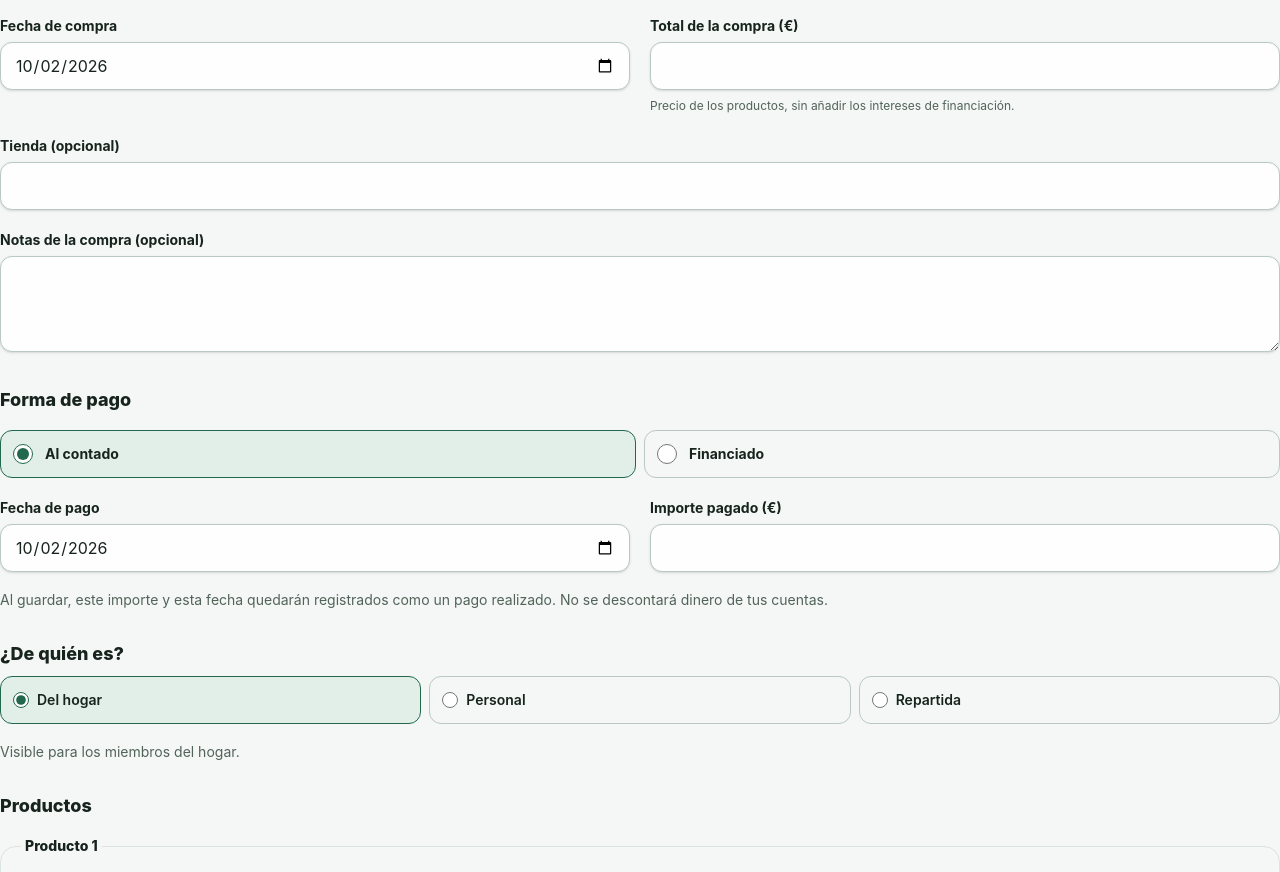
purchase payment fields › explains cent adjustment in the last installment
Type "100" into the field labelled "Total de la compra (€)". click: {"x": 965, "y": 66}
box: x1=650 y1=42 x2=1279 y2=90
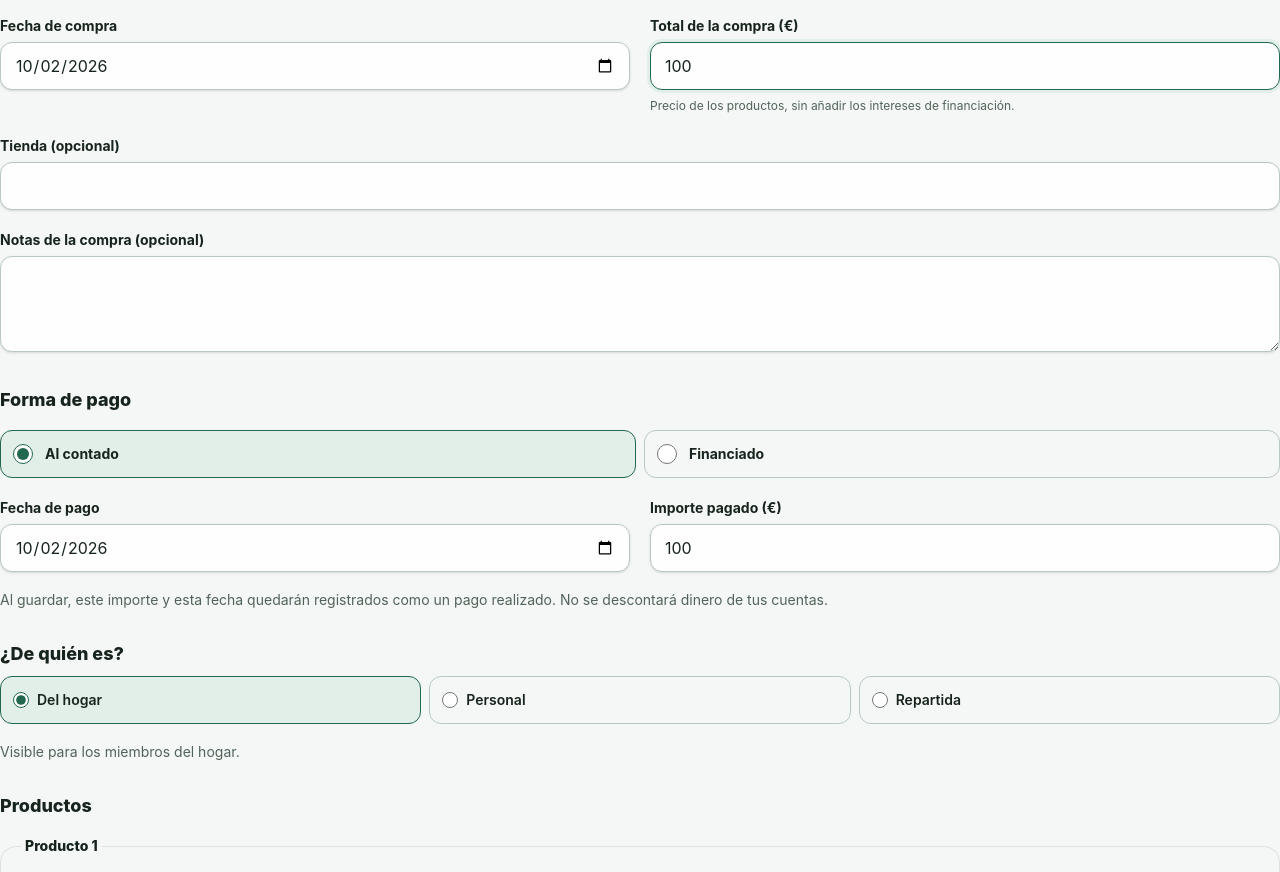
Click the radio button labelled "Financiado". click: {"x": 667, "y": 454}
box: x1=657 y1=444 x2=677 y2=464
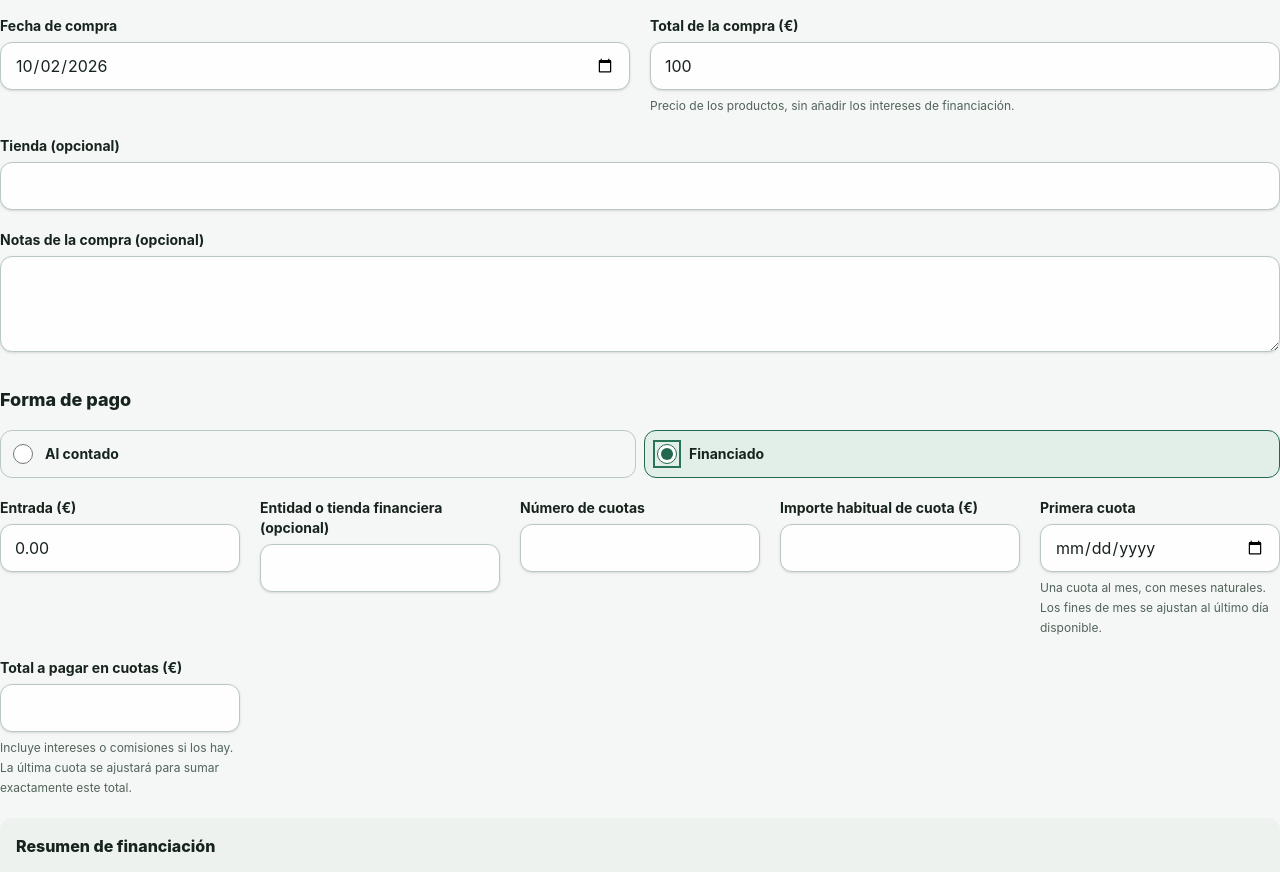
Type "3" into the number field labelled "Número de cuotas". click: {"x": 640, "y": 548}
box: x1=520 y1=524 x2=760 y2=572
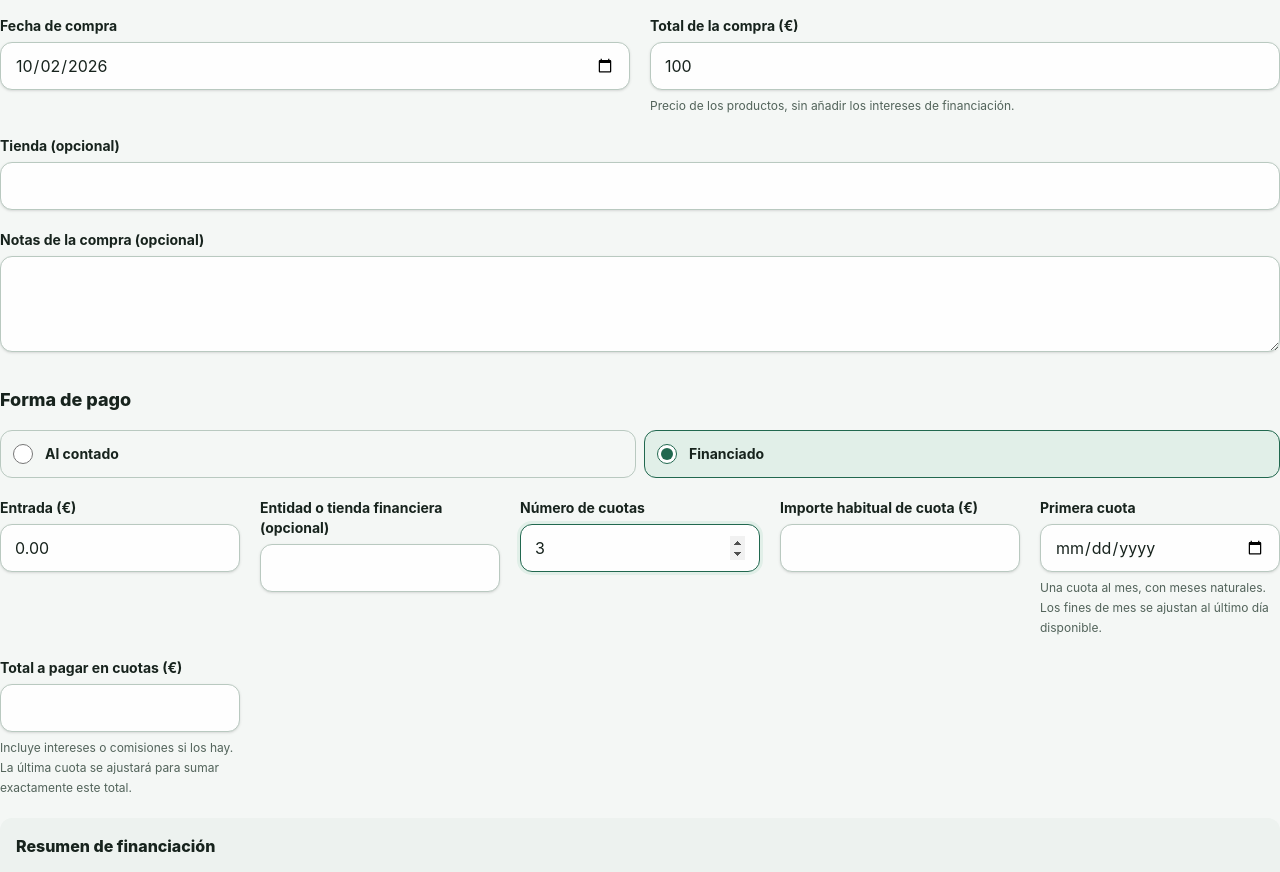
Type "33,33" into the field labelled "Importe habitual de cuota (€)". click: {"x": 900, "y": 548}
box: x1=780 y1=524 x2=1020 y2=572
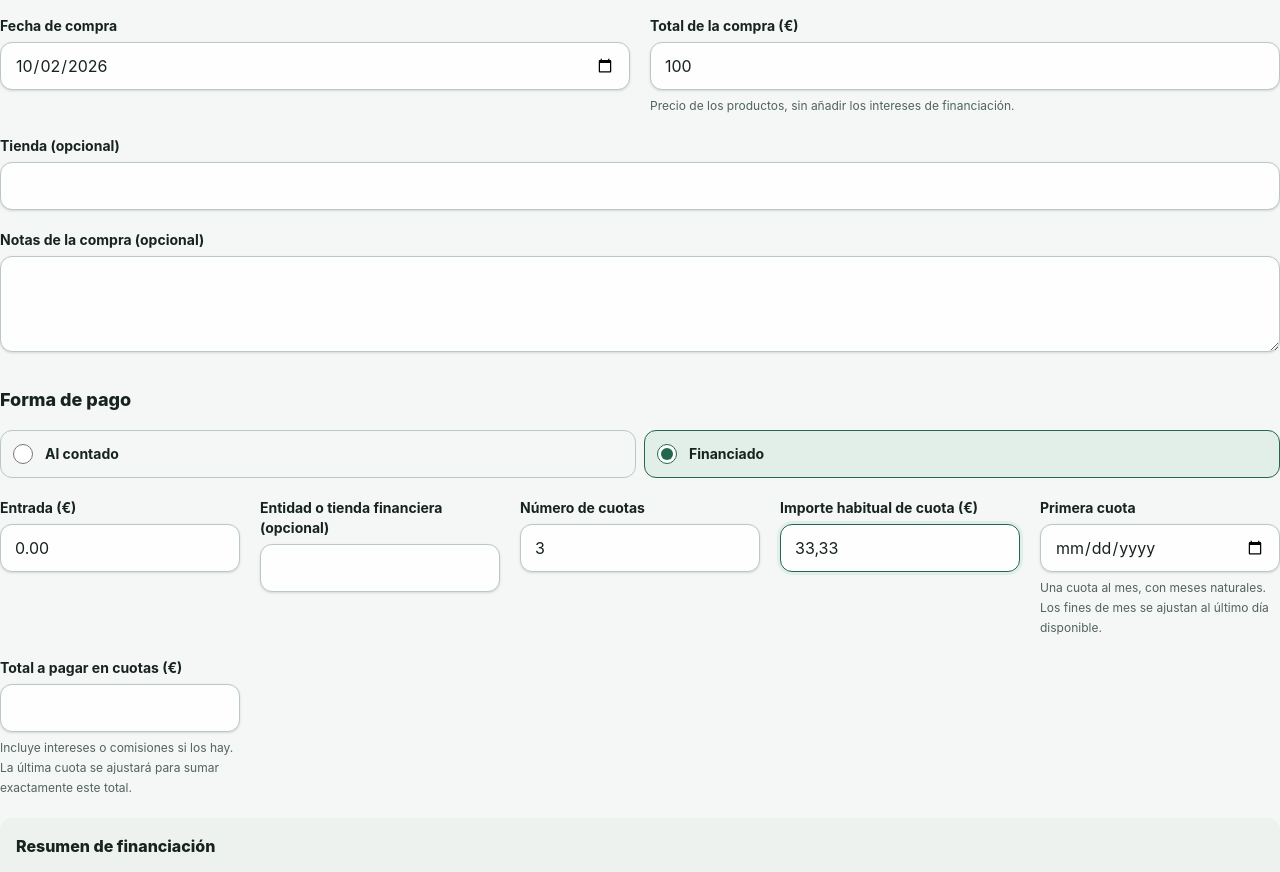
Type "100" into the field labelled "Total a pagar en cuotas (€)". click: {"x": 120, "y": 708}
box: x1=0 y1=684 x2=240 y2=732
(page scrolled)
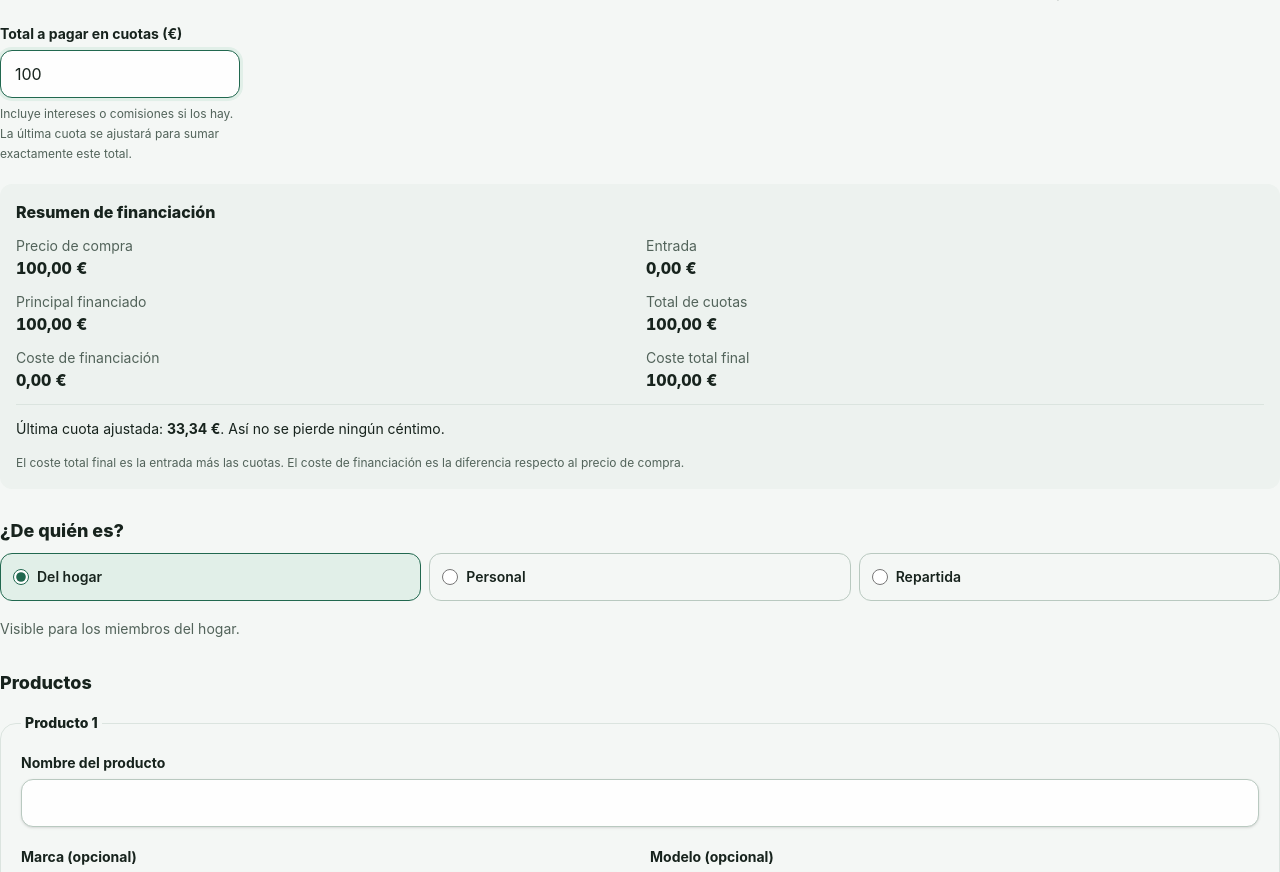
Now the text "Última cuota ajustada" shows "33,34", box x1=167 y1=420 x2=220 y2=437
